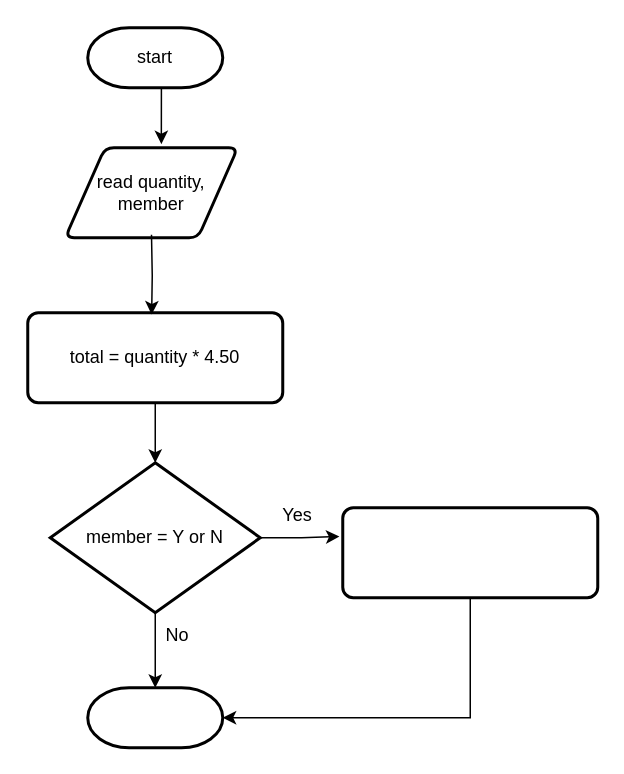
Some shapes in this 624 by 774 pixel diagram are drawn without their labels. Here are the shapes that lost their labels. From the top down, the centre of each, then its label:
At pixel 469 552: "total = total * 0.9".
At pixel 155 717: "stop".
